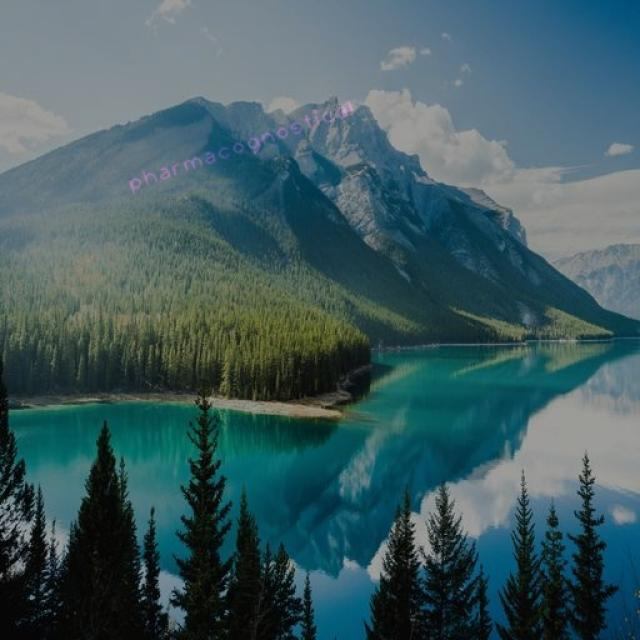watermark: (124, 97, 356, 194)
